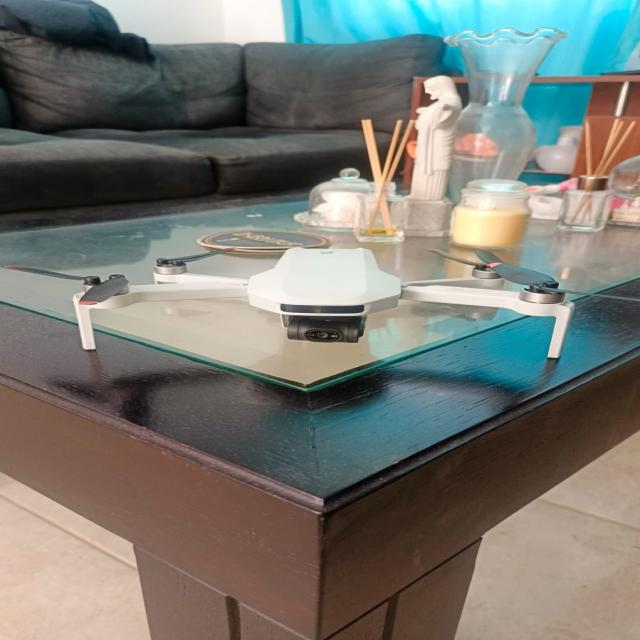dron: (55, 225, 588, 382)
